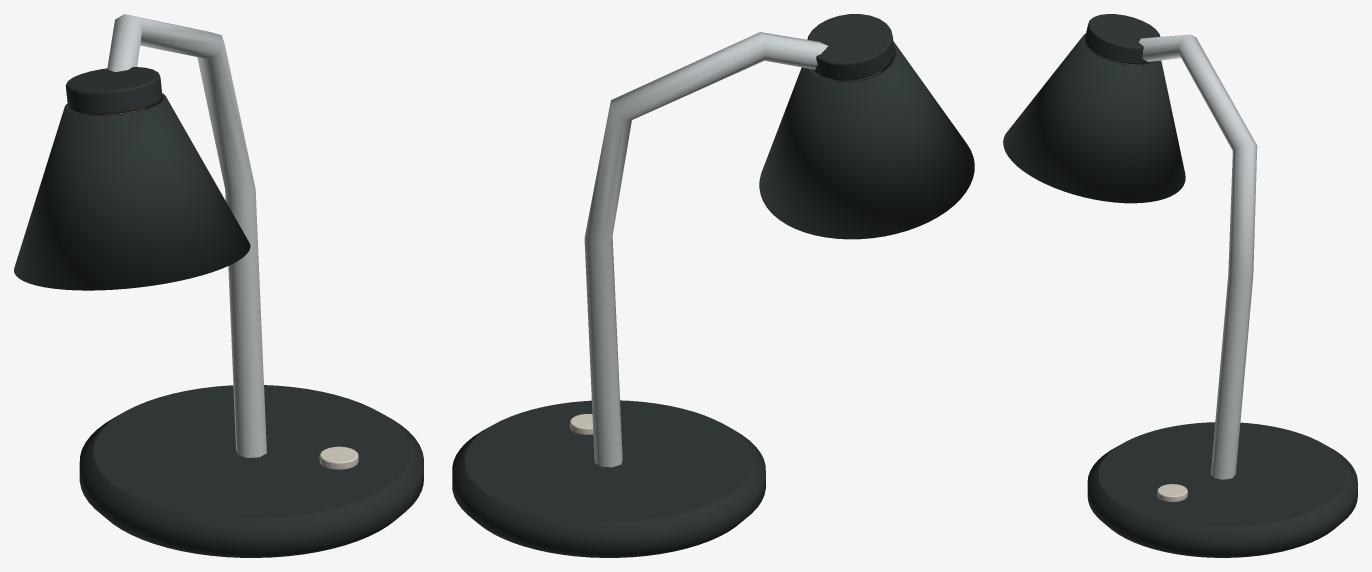
Rendered from crime-gooseneck-lamp.glb.
The picture shows the model from 3 angles, left to right: view 1: azimuth 30°, elevation 25°; view 2: azimuth 150°, elevation 25°; view 3: azimuth 270°, elevation 25°; orthographic projection. The views are drawn at different scales.
Parts seen in each view (by area): view 1: Lamp | weighted circular base, Task head | open metal shade, Gooseneck | flexible neck, Task head | top cap, Gooseneck | base switch; view 2: Lamp | weighted circular base, Task head | open metal shade, Gooseneck | flexible neck, Task head | top cap; view 3: Lamp | weighted circular base, Task head | open metal shade, Gooseneck | flexible neck, Task head | top cap, Gooseneck | base switch.
Part boxes in pixels (x1,y1,x2,y2): Lamp | weighted circular base: (79,385,423,557); Task head | open metal shade: (14,93,250,290); Gooseneck | flexible neck: (107,14,266,457); Task head | top cap: (65,67,162,114); Gooseneck | base switch: (319,446,358,469); Lamp | weighted circular base: (452,400,765,557); Task head | open metal shade: (759,41,974,239); Gooseneck | flexible neck: (584,32,827,467); Task head | top cap: (807,14,894,80); Lamp | weighted circular base: (1087,422,1357,557); Task head | open metal shade: (1003,33,1185,203); Gooseneck | flexible neck: (1139,34,1257,479); Task head | top cap: (1084,14,1160,64); Gooseneck | base switch: (1157,484,1187,502).
Bounding box in the file's own units: 0.295 × 0.3277 × 0.2546.
Materials: 5 (5 with a texture image).
